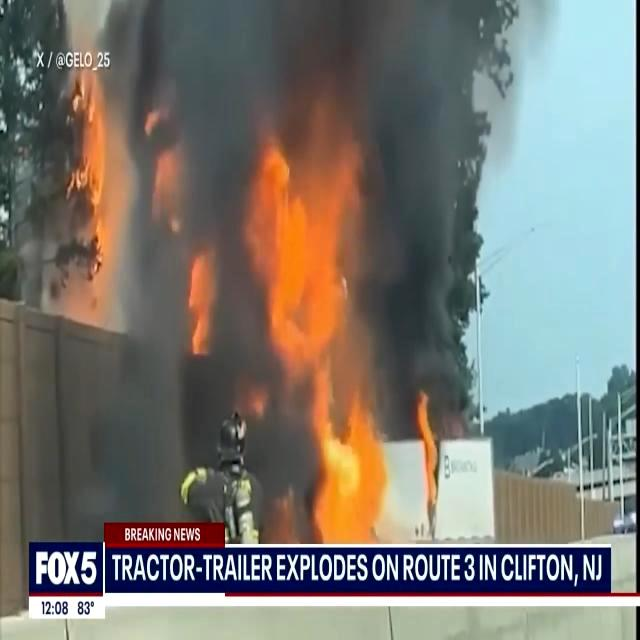fire: (238, 126, 418, 550), (60, 72, 122, 272)
